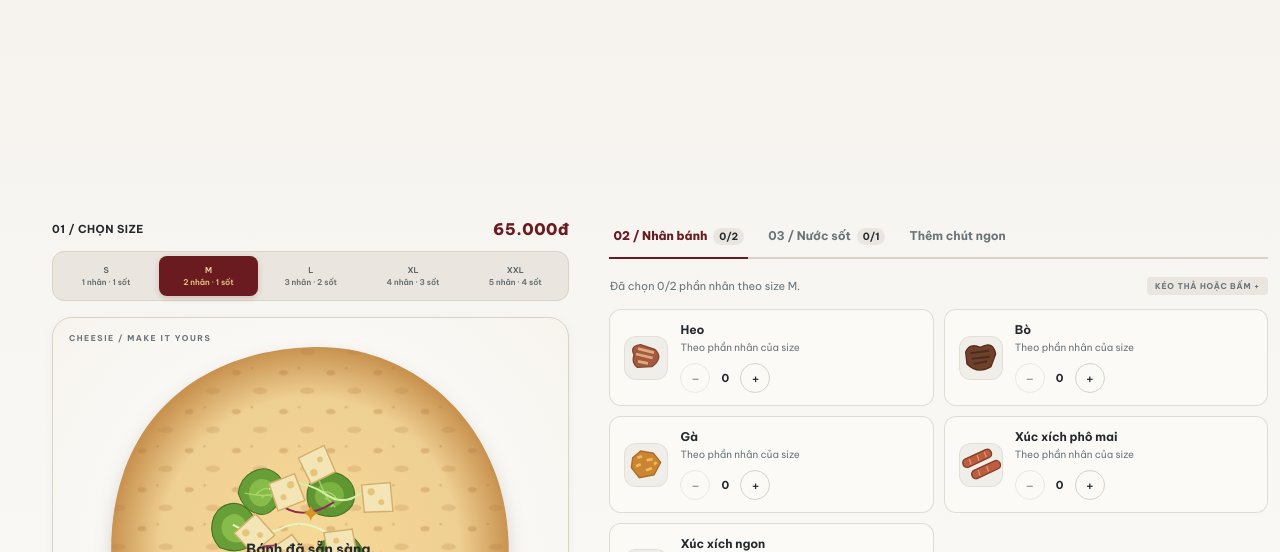
Test: Cheesie Station Full User Flow › kích hoạt modal xác nhận khi giảm size vượt quá hạn mức nhân/sốt
(page scrolled)
// Chọn size L (cần 3 nhân, 2 sốt)
Step 1. Click the button "L 3 nhân · 2 sốt" → (311, 276), box [262,256,360,296]
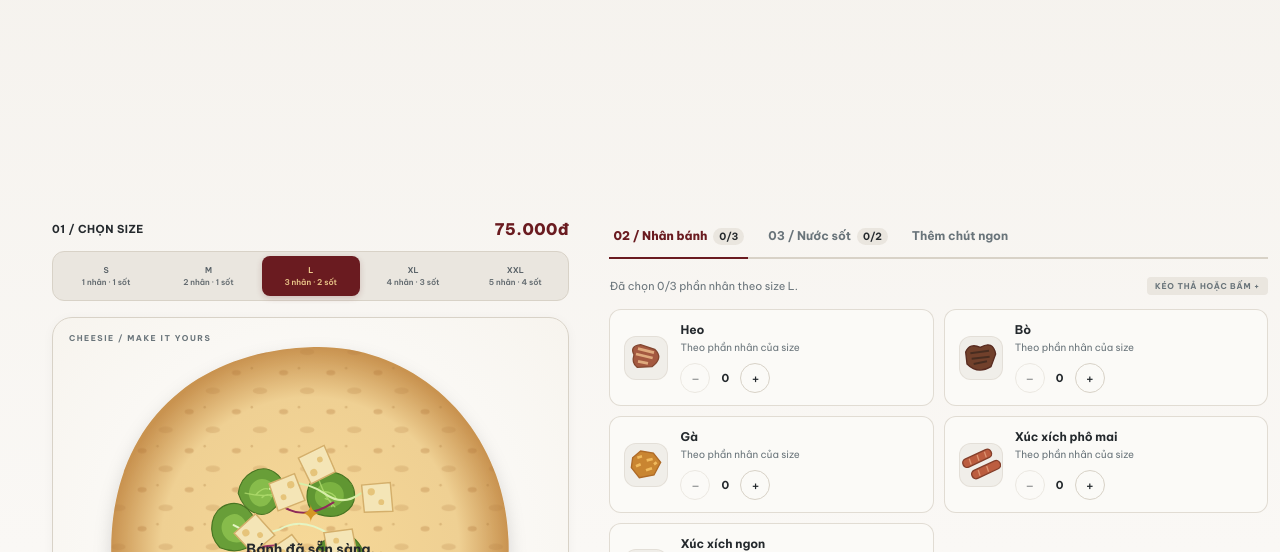
// Thêm 3 nhân: Heo, Bò, Gà
Step 2. Click the button named "Thêm Heo" → (755, 378), box [740,363,770,393]
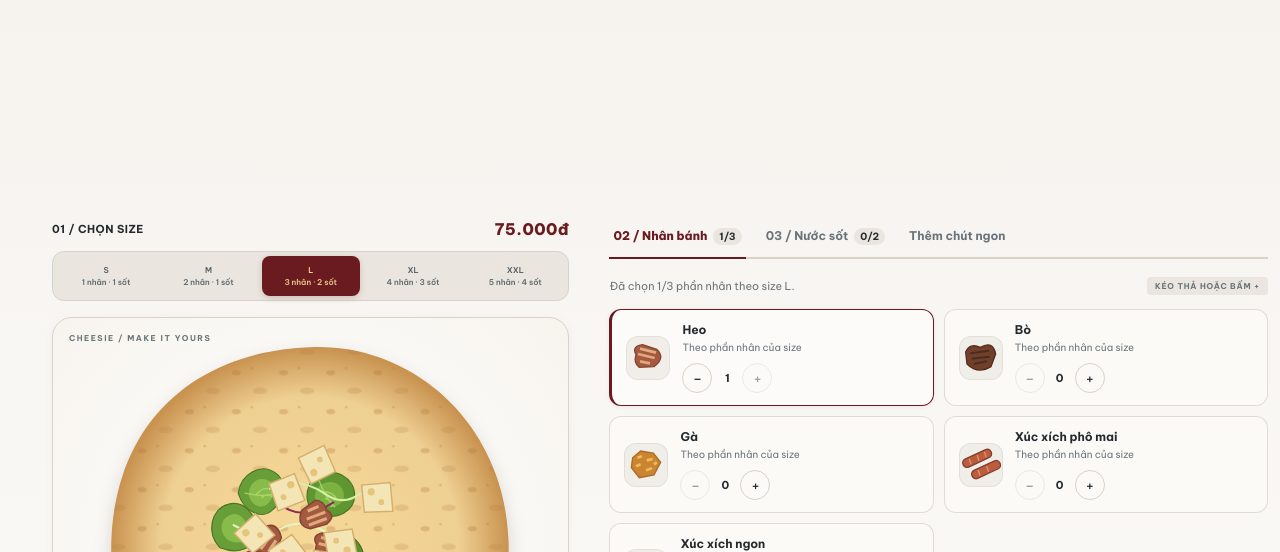
Step 3. Click the button named "Thêm Bò" → (1090, 378), box [1075,363,1105,393]
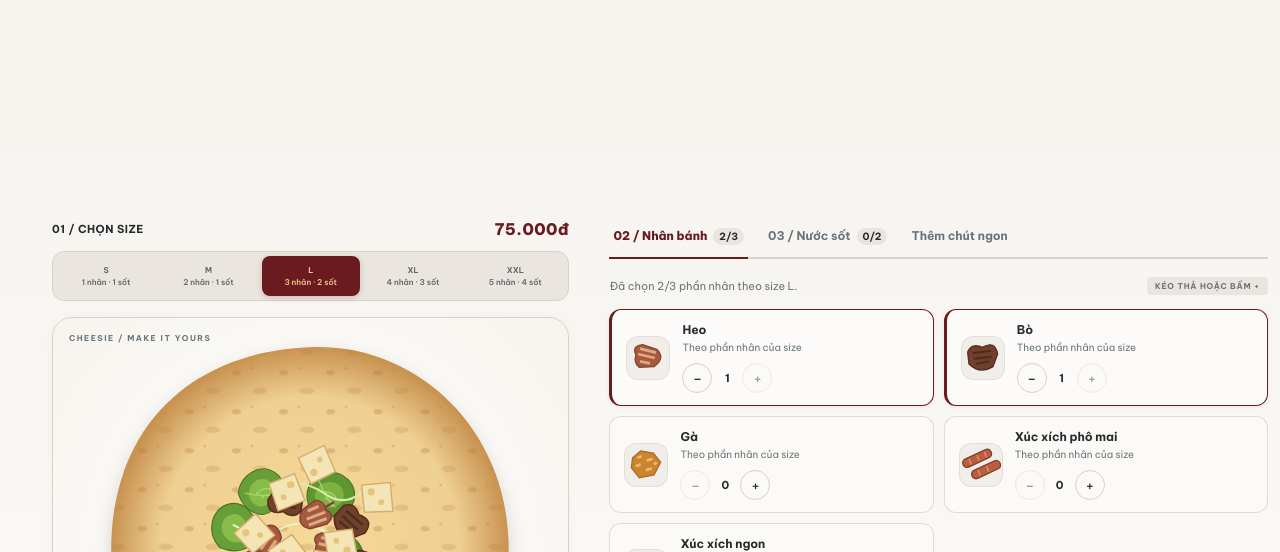
Step 4. Click the button named "Thêm Gà" → (755, 485), box [740,470,770,500]
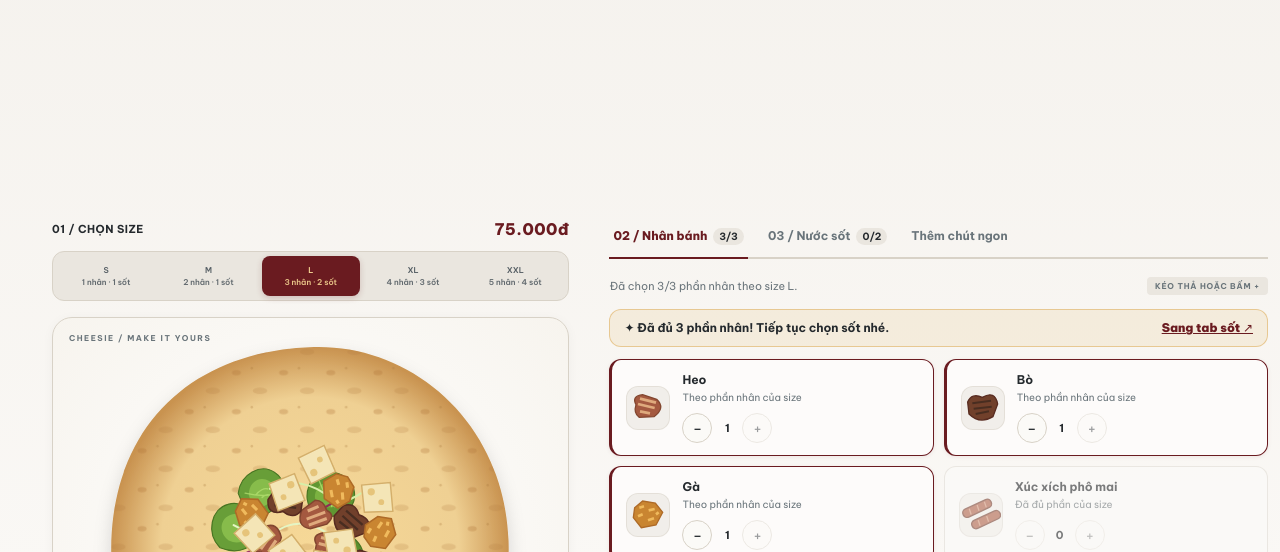
// Đổi xuống size S (chỉ cho phép 1 nhân, 1 sốt)
Step 5. Click the button "S 1 nhân · 1 sốt" → (106, 276), box [57,256,155,296]
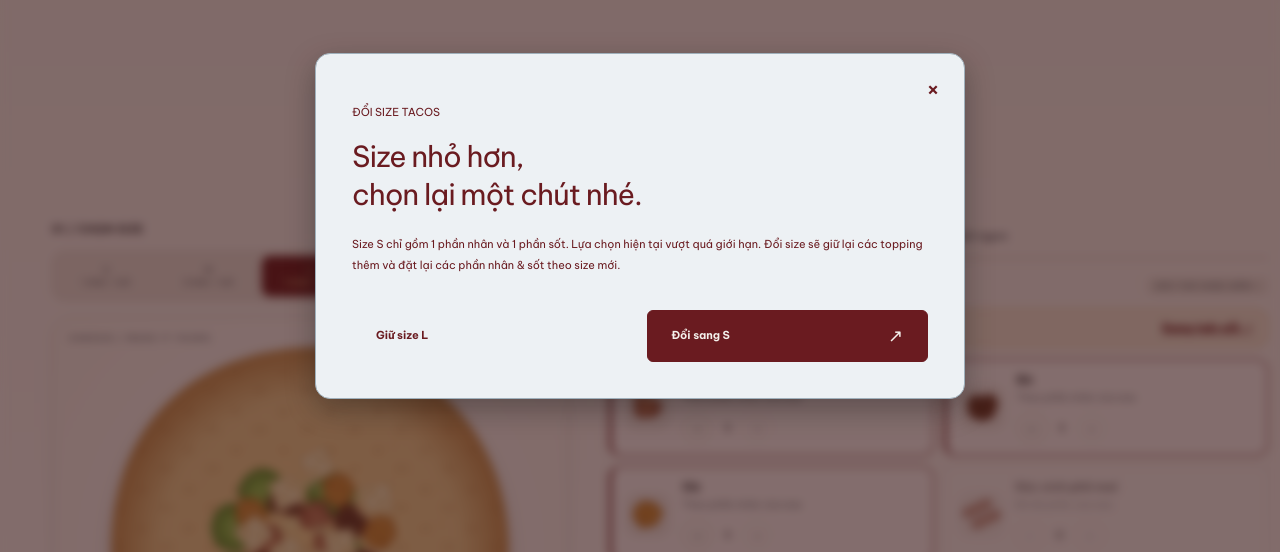
Result: the heading "Size nhỏ hơn,chọn lại một chút nhé." is shown at [352,138,642,213]
Result: the text "Size S chỉ gồm 1 phần nhân và 1 phần sốt" is shown at [352,234,928,276]
// Bấm Đổi sang S
Step 6. Click the button "Đổi sang S ↗" → (697, 335), box [646,310,928,362]
(page scrolled)
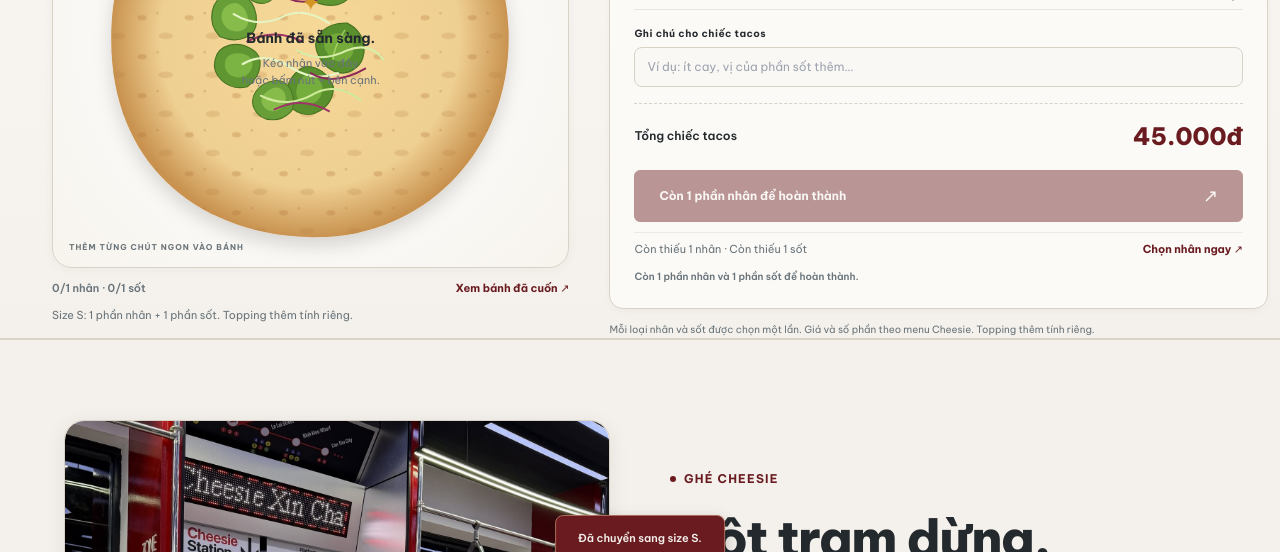
Result: the text "Còn 1 phần nhân và 1 phần sốt để hoàn thành." is shown at [634,270,859,283]
